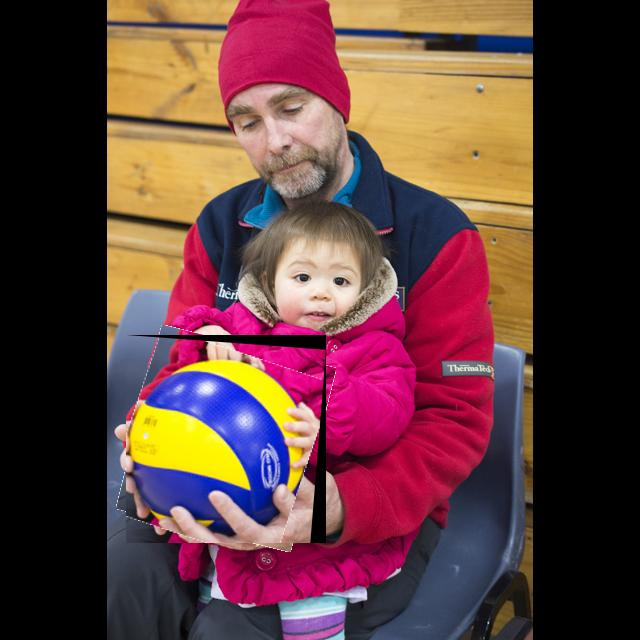Football: (126, 335, 326, 543)
